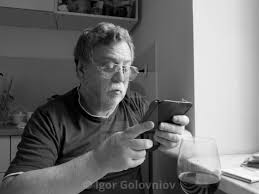white_male: (79, 41, 134, 115)
